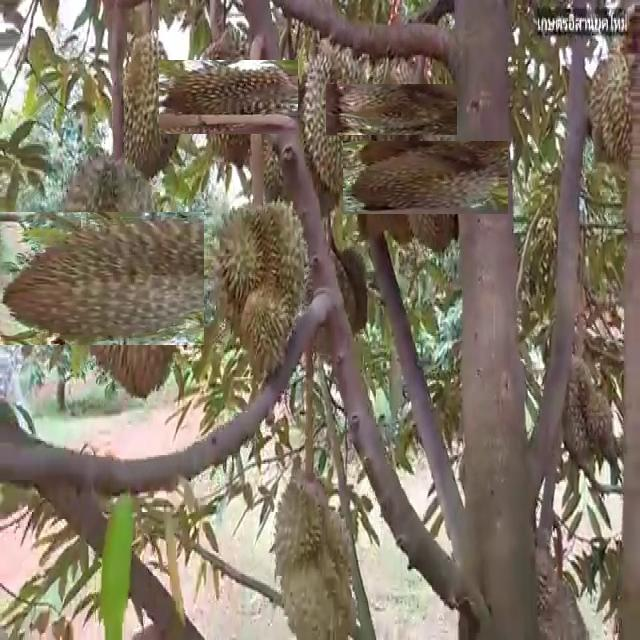durian: (23, 180, 220, 377), (205, 188, 312, 385), (271, 465, 361, 638), (366, 118, 485, 238), (298, 30, 376, 204), (177, 41, 289, 153), (118, 30, 184, 180), (346, 64, 437, 155), (587, 42, 634, 176)
